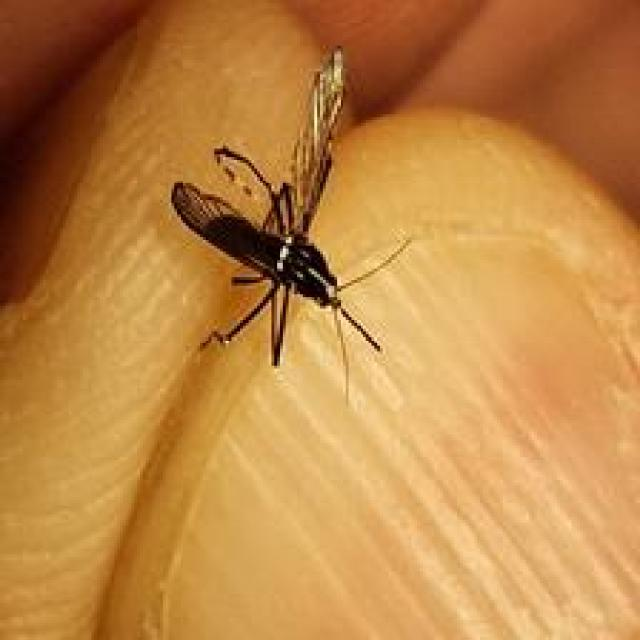Aedes albopictus: (169, 43, 414, 406)
